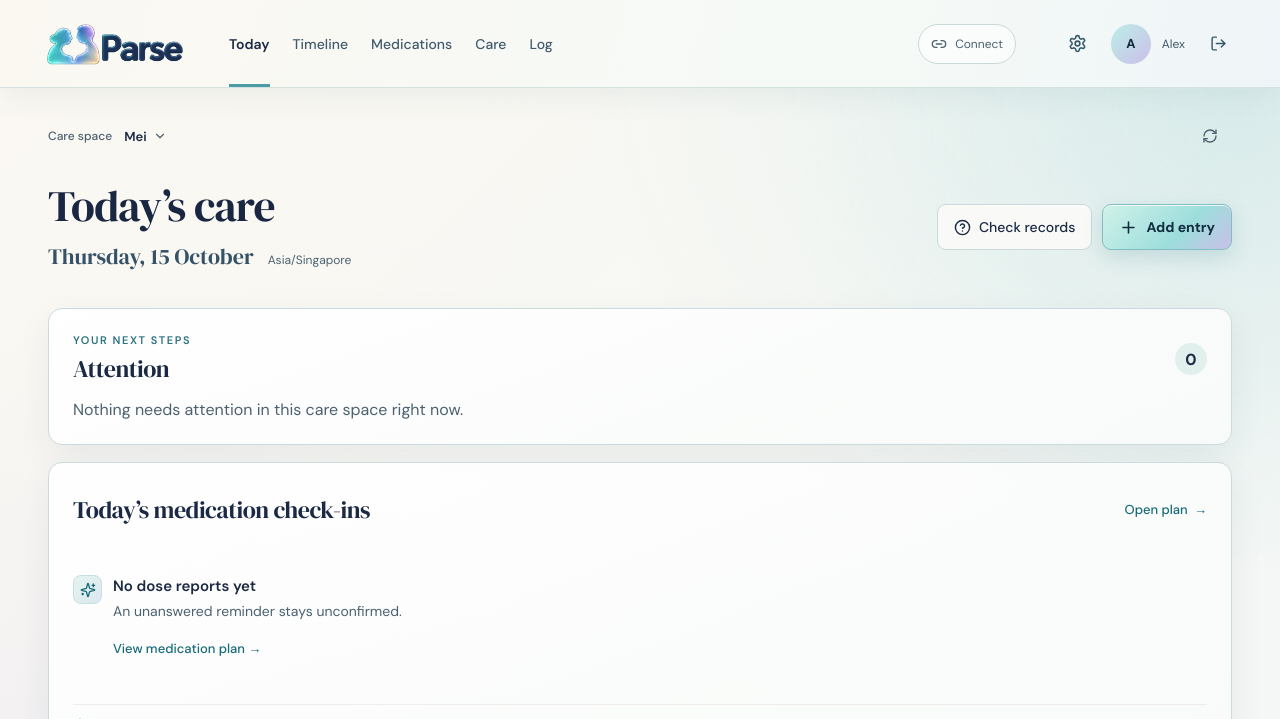
Test case: keeps record questions and summaries accessible as secondary actions
Expected: the text "Nothing needs attention in this care space right now." is shown, left=73, top=400, right=463, bottom=420
Click the button "Check records" at {"x": 1015, "y": 227}, box left=937, top=204, right=1092, bottom=250
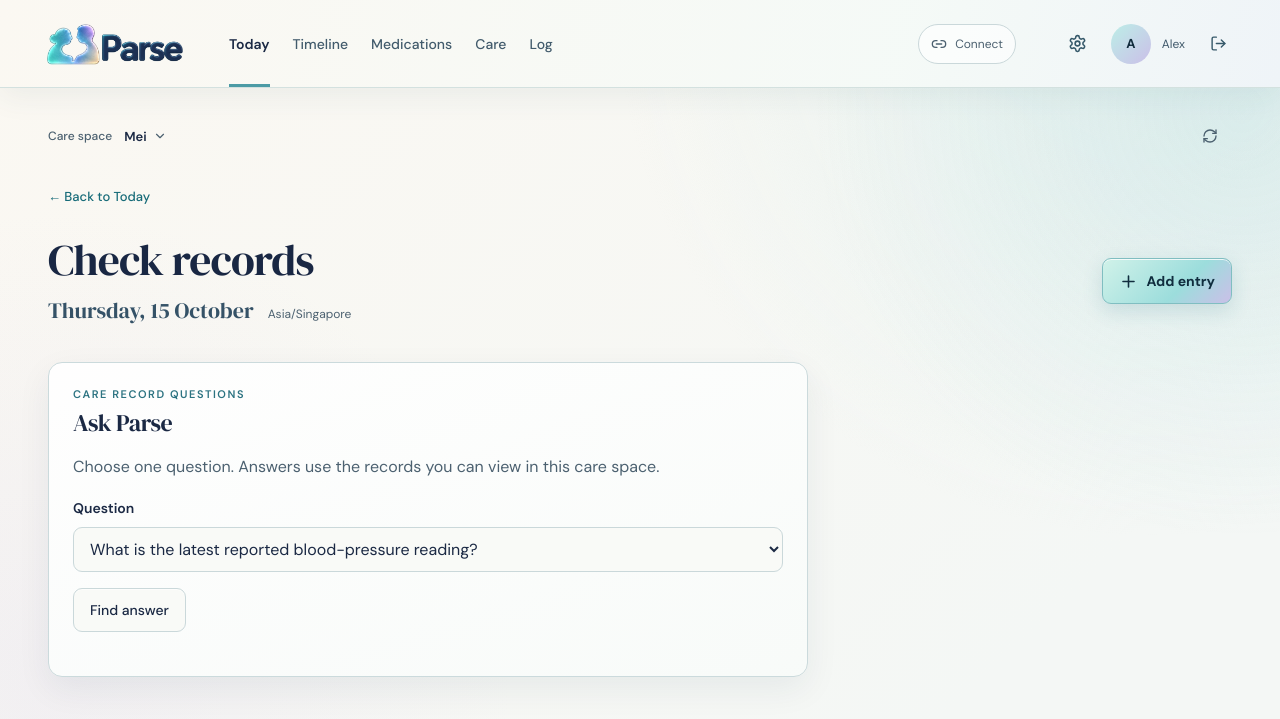
Result: the button "Find answer" is shown at left=73, top=588, right=186, bottom=632
Click the button "← Back to Today" at {"x": 99, "y": 196}, box left=48, top=174, right=150, bottom=218
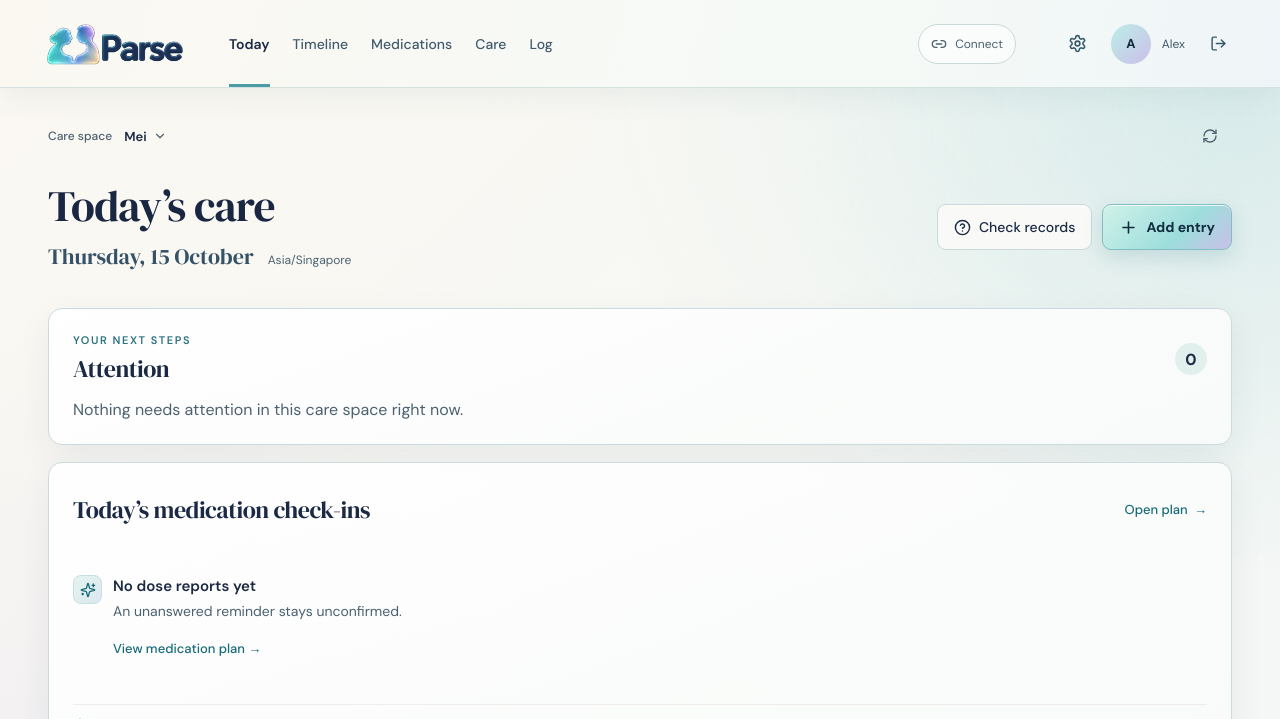
Click the button "Timeline" at {"x": 320, "y": 44}, box left=292, top=0, right=348, bottom=87
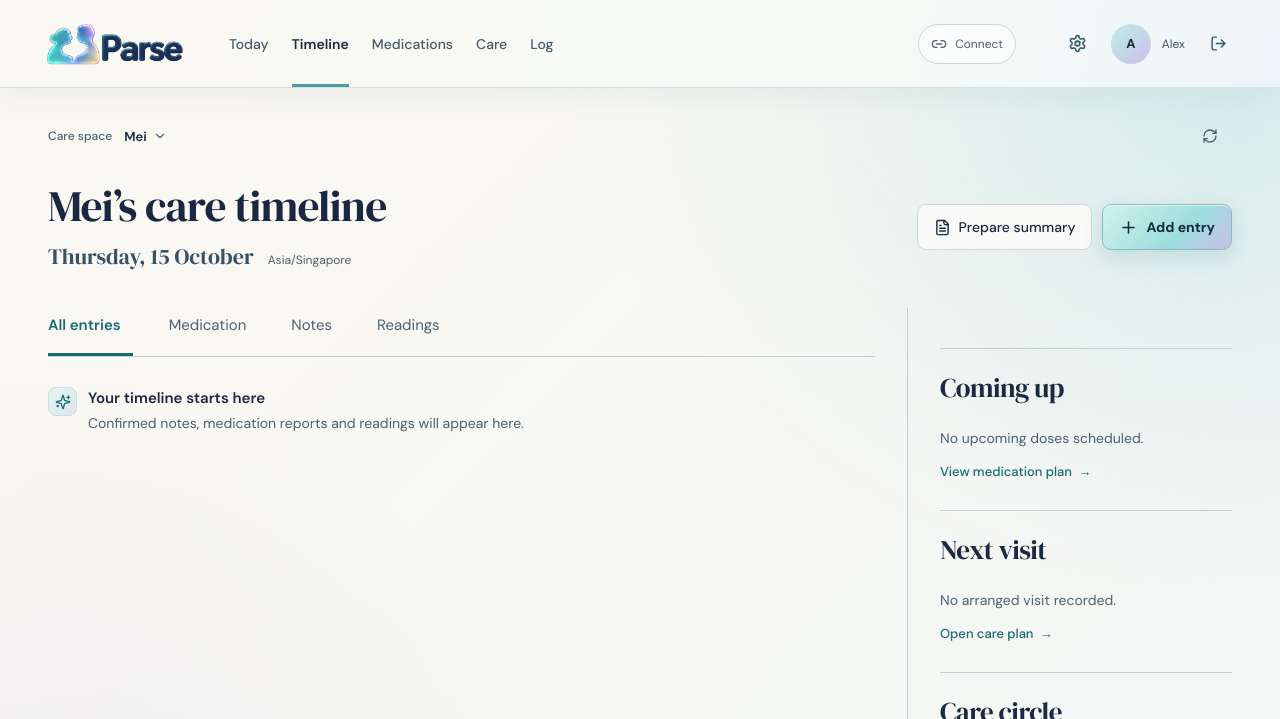
Click the button "Prepare summary" at {"x": 1004, "y": 227}, box left=916, top=204, right=1092, bottom=250
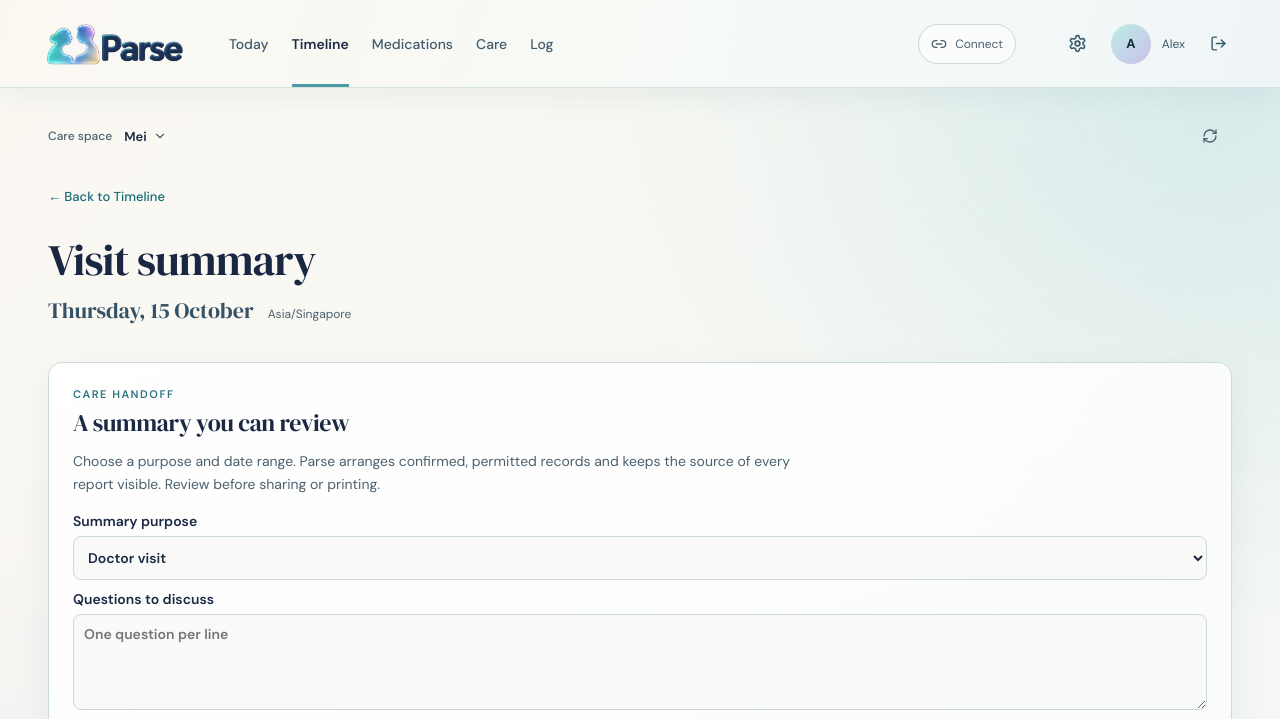
Result: the dropdown labelled "Summary purpose" is shown at left=73, top=536, right=1207, bottom=580
Click the button "← Back to Timeline" at {"x": 106, "y": 196}, box left=48, top=174, right=165, bottom=218
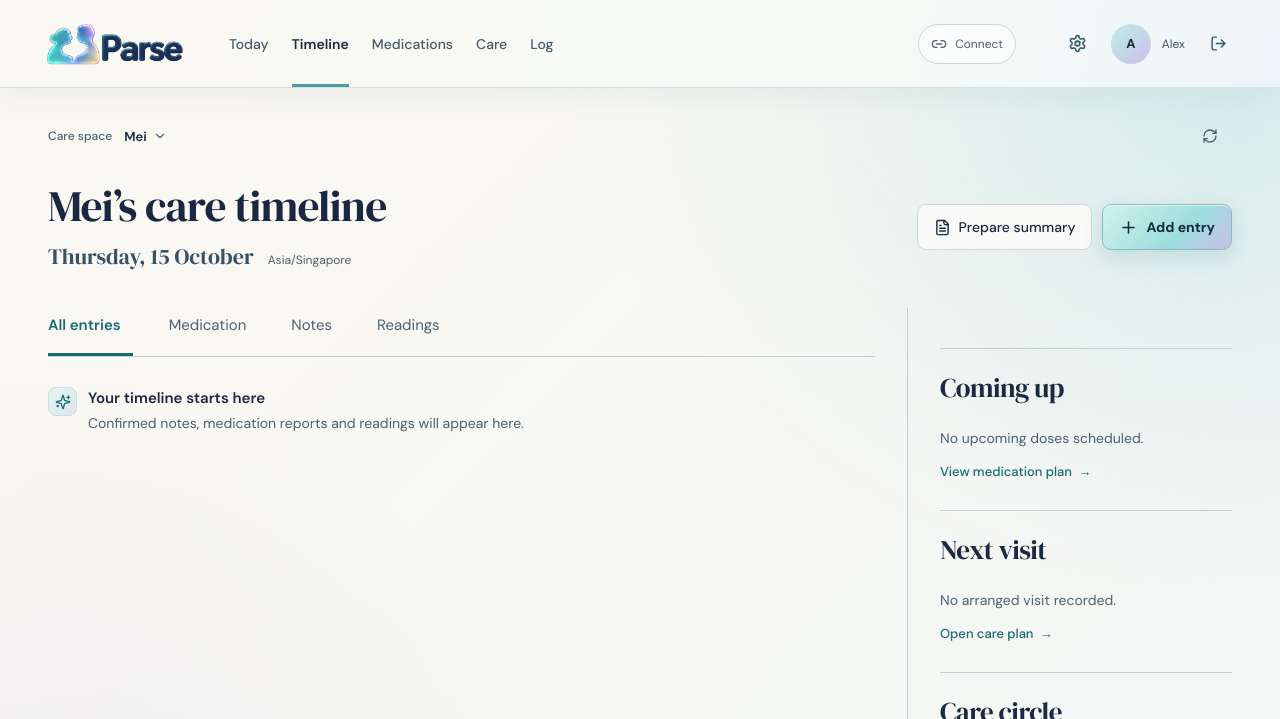
Result: the heading "Mei’s care timeline" is shown at left=48, top=182, right=386, bottom=232
